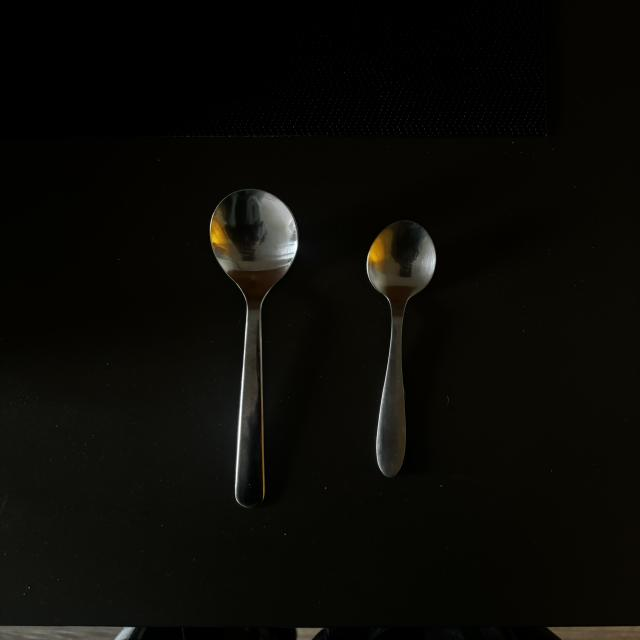spoon: (206, 188, 300, 511), (366, 220, 439, 481)
